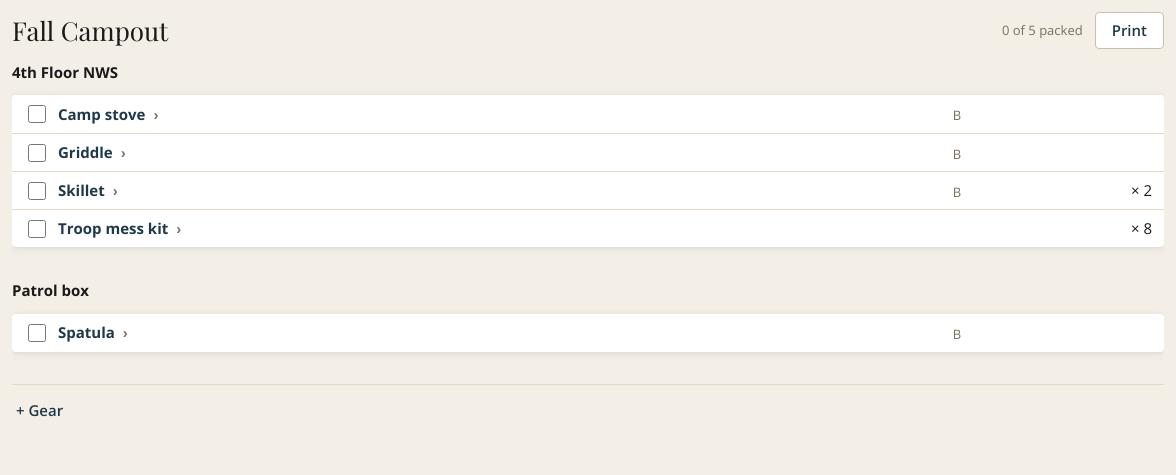
Test case: Gear tab › OpeningARow_SaysWhichMealAndFoodsNeedIt
The width and height of the screenshot is (1176, 475).
Click the button "Spatula ›": {"x": 93, "y": 333} [58,321,128,344]
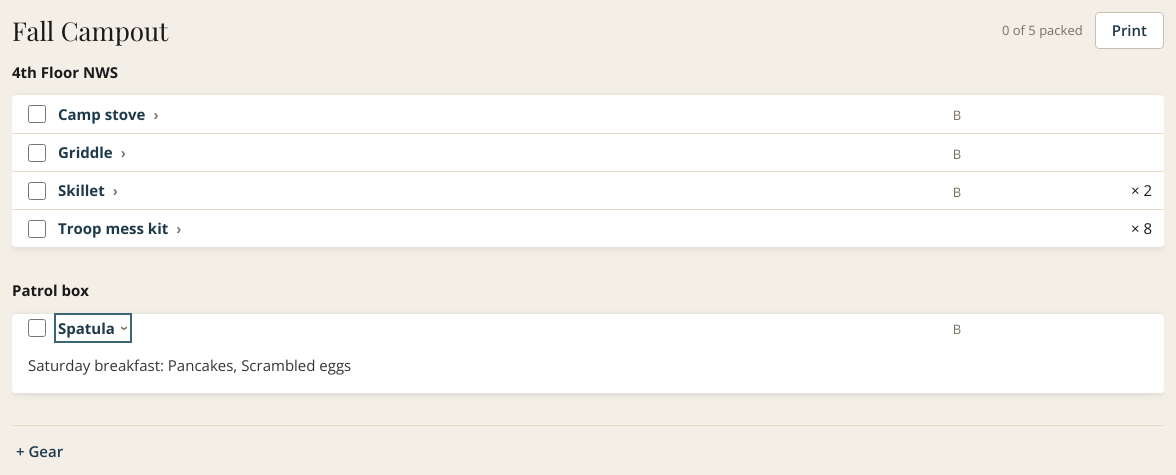
Result: the list item "Saturday breakfast: Pancakes, Scrambled eggs" is shown at [28,355,351,375]
